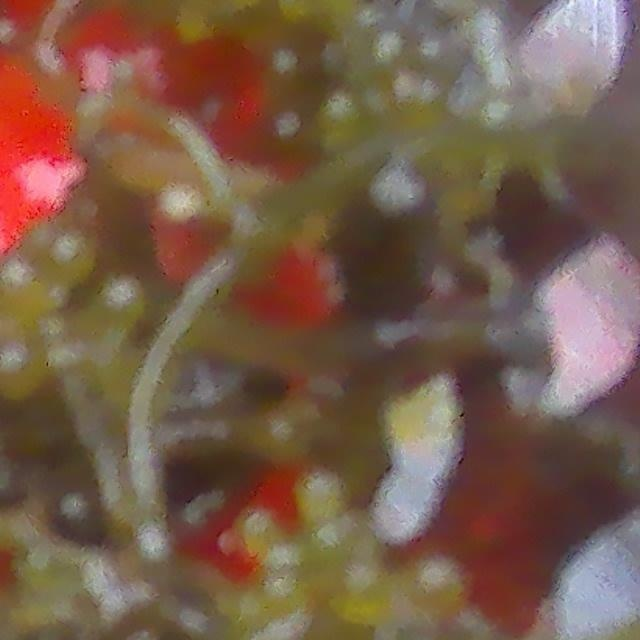SeaGrape: (0, 342, 52, 400), (0, 255, 48, 317), (104, 278, 146, 324), (54, 239, 92, 280)
